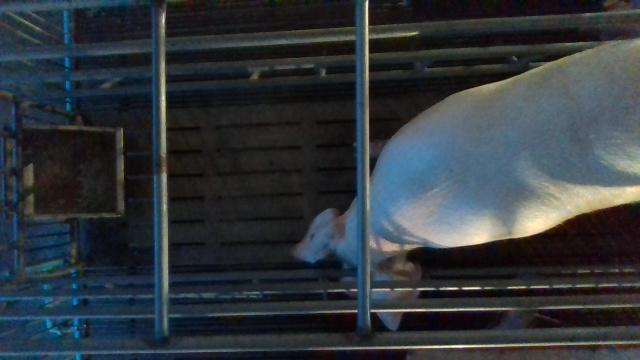sow-stand: (291, 38, 640, 331)
